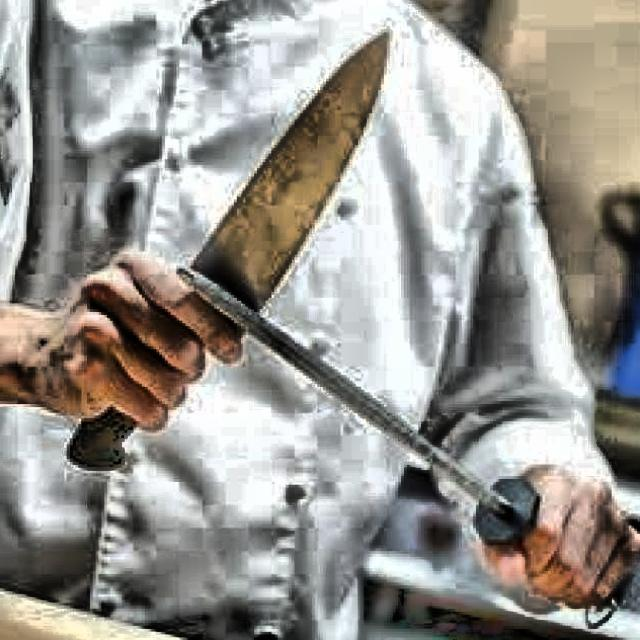knife: (61, 22, 398, 477)
